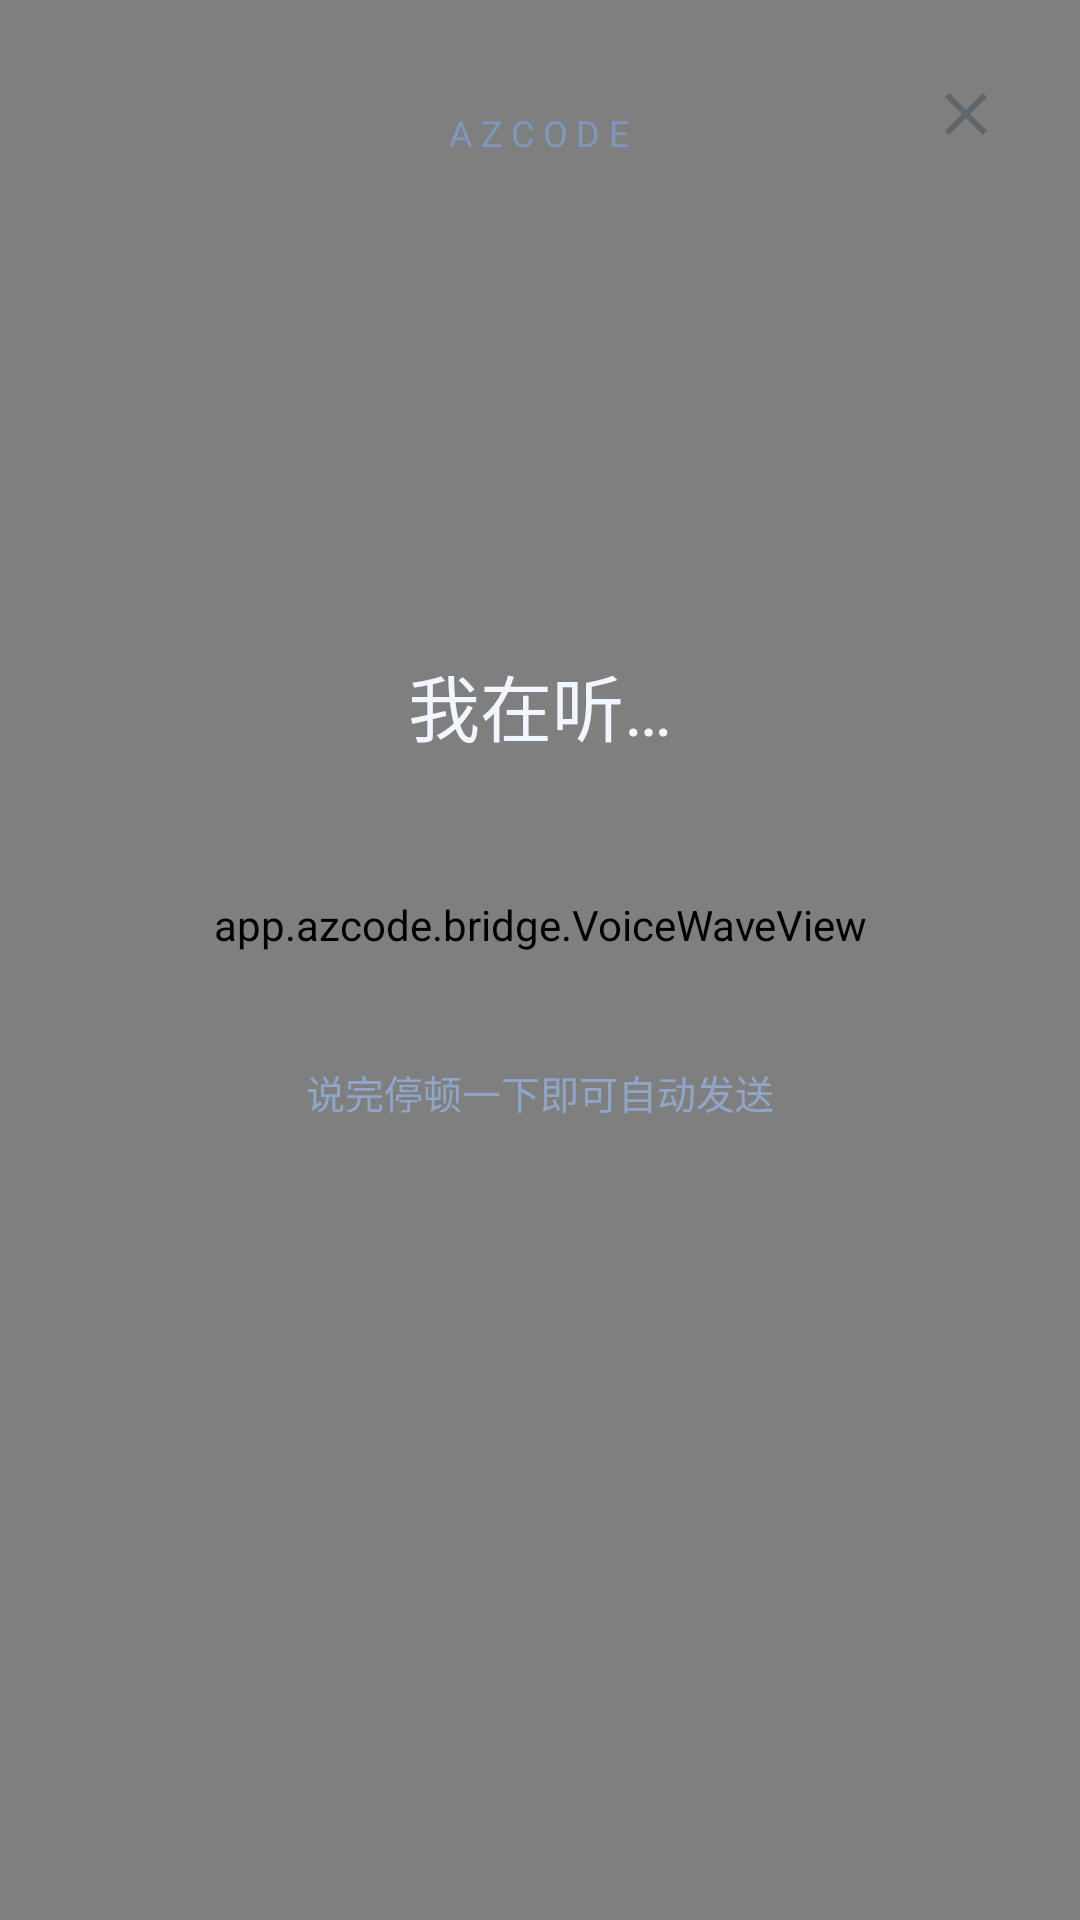

Icon bounding boxes for this 1080w x 1920h phone screenshot, format (x1, y1, x2, y2):
关闭: (946, 94, 986, 134)
